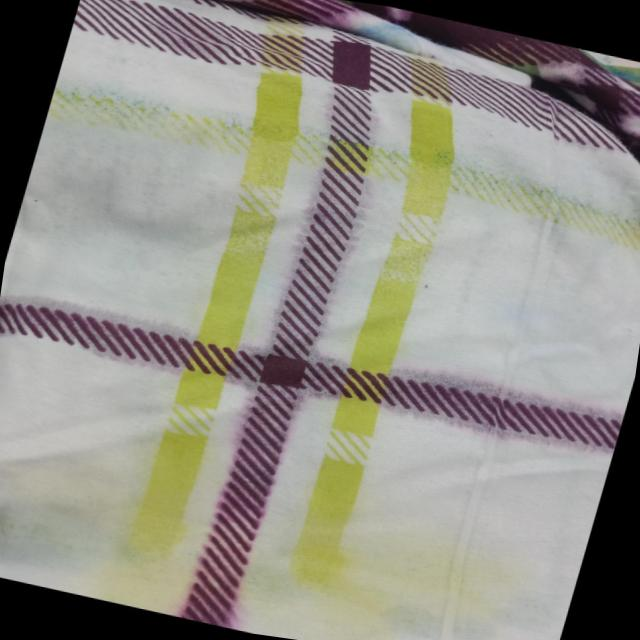baekra: (0, 250, 552, 640)
